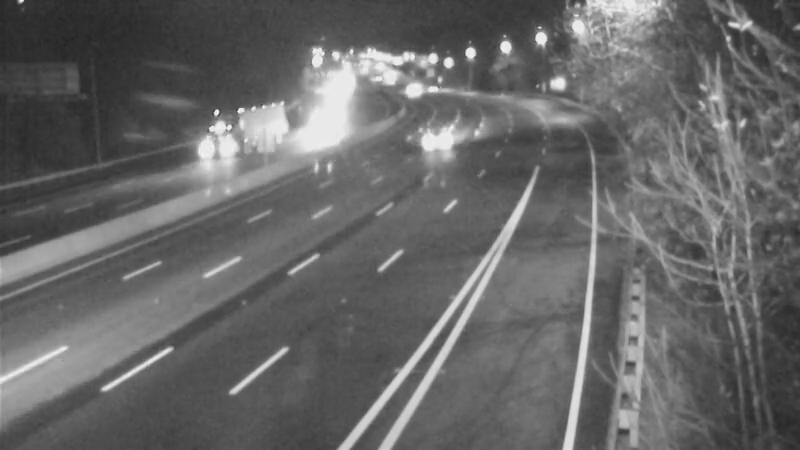vehicle: (385, 65, 435, 115), (410, 110, 460, 160), (187, 117, 237, 167), (287, 110, 337, 160)
